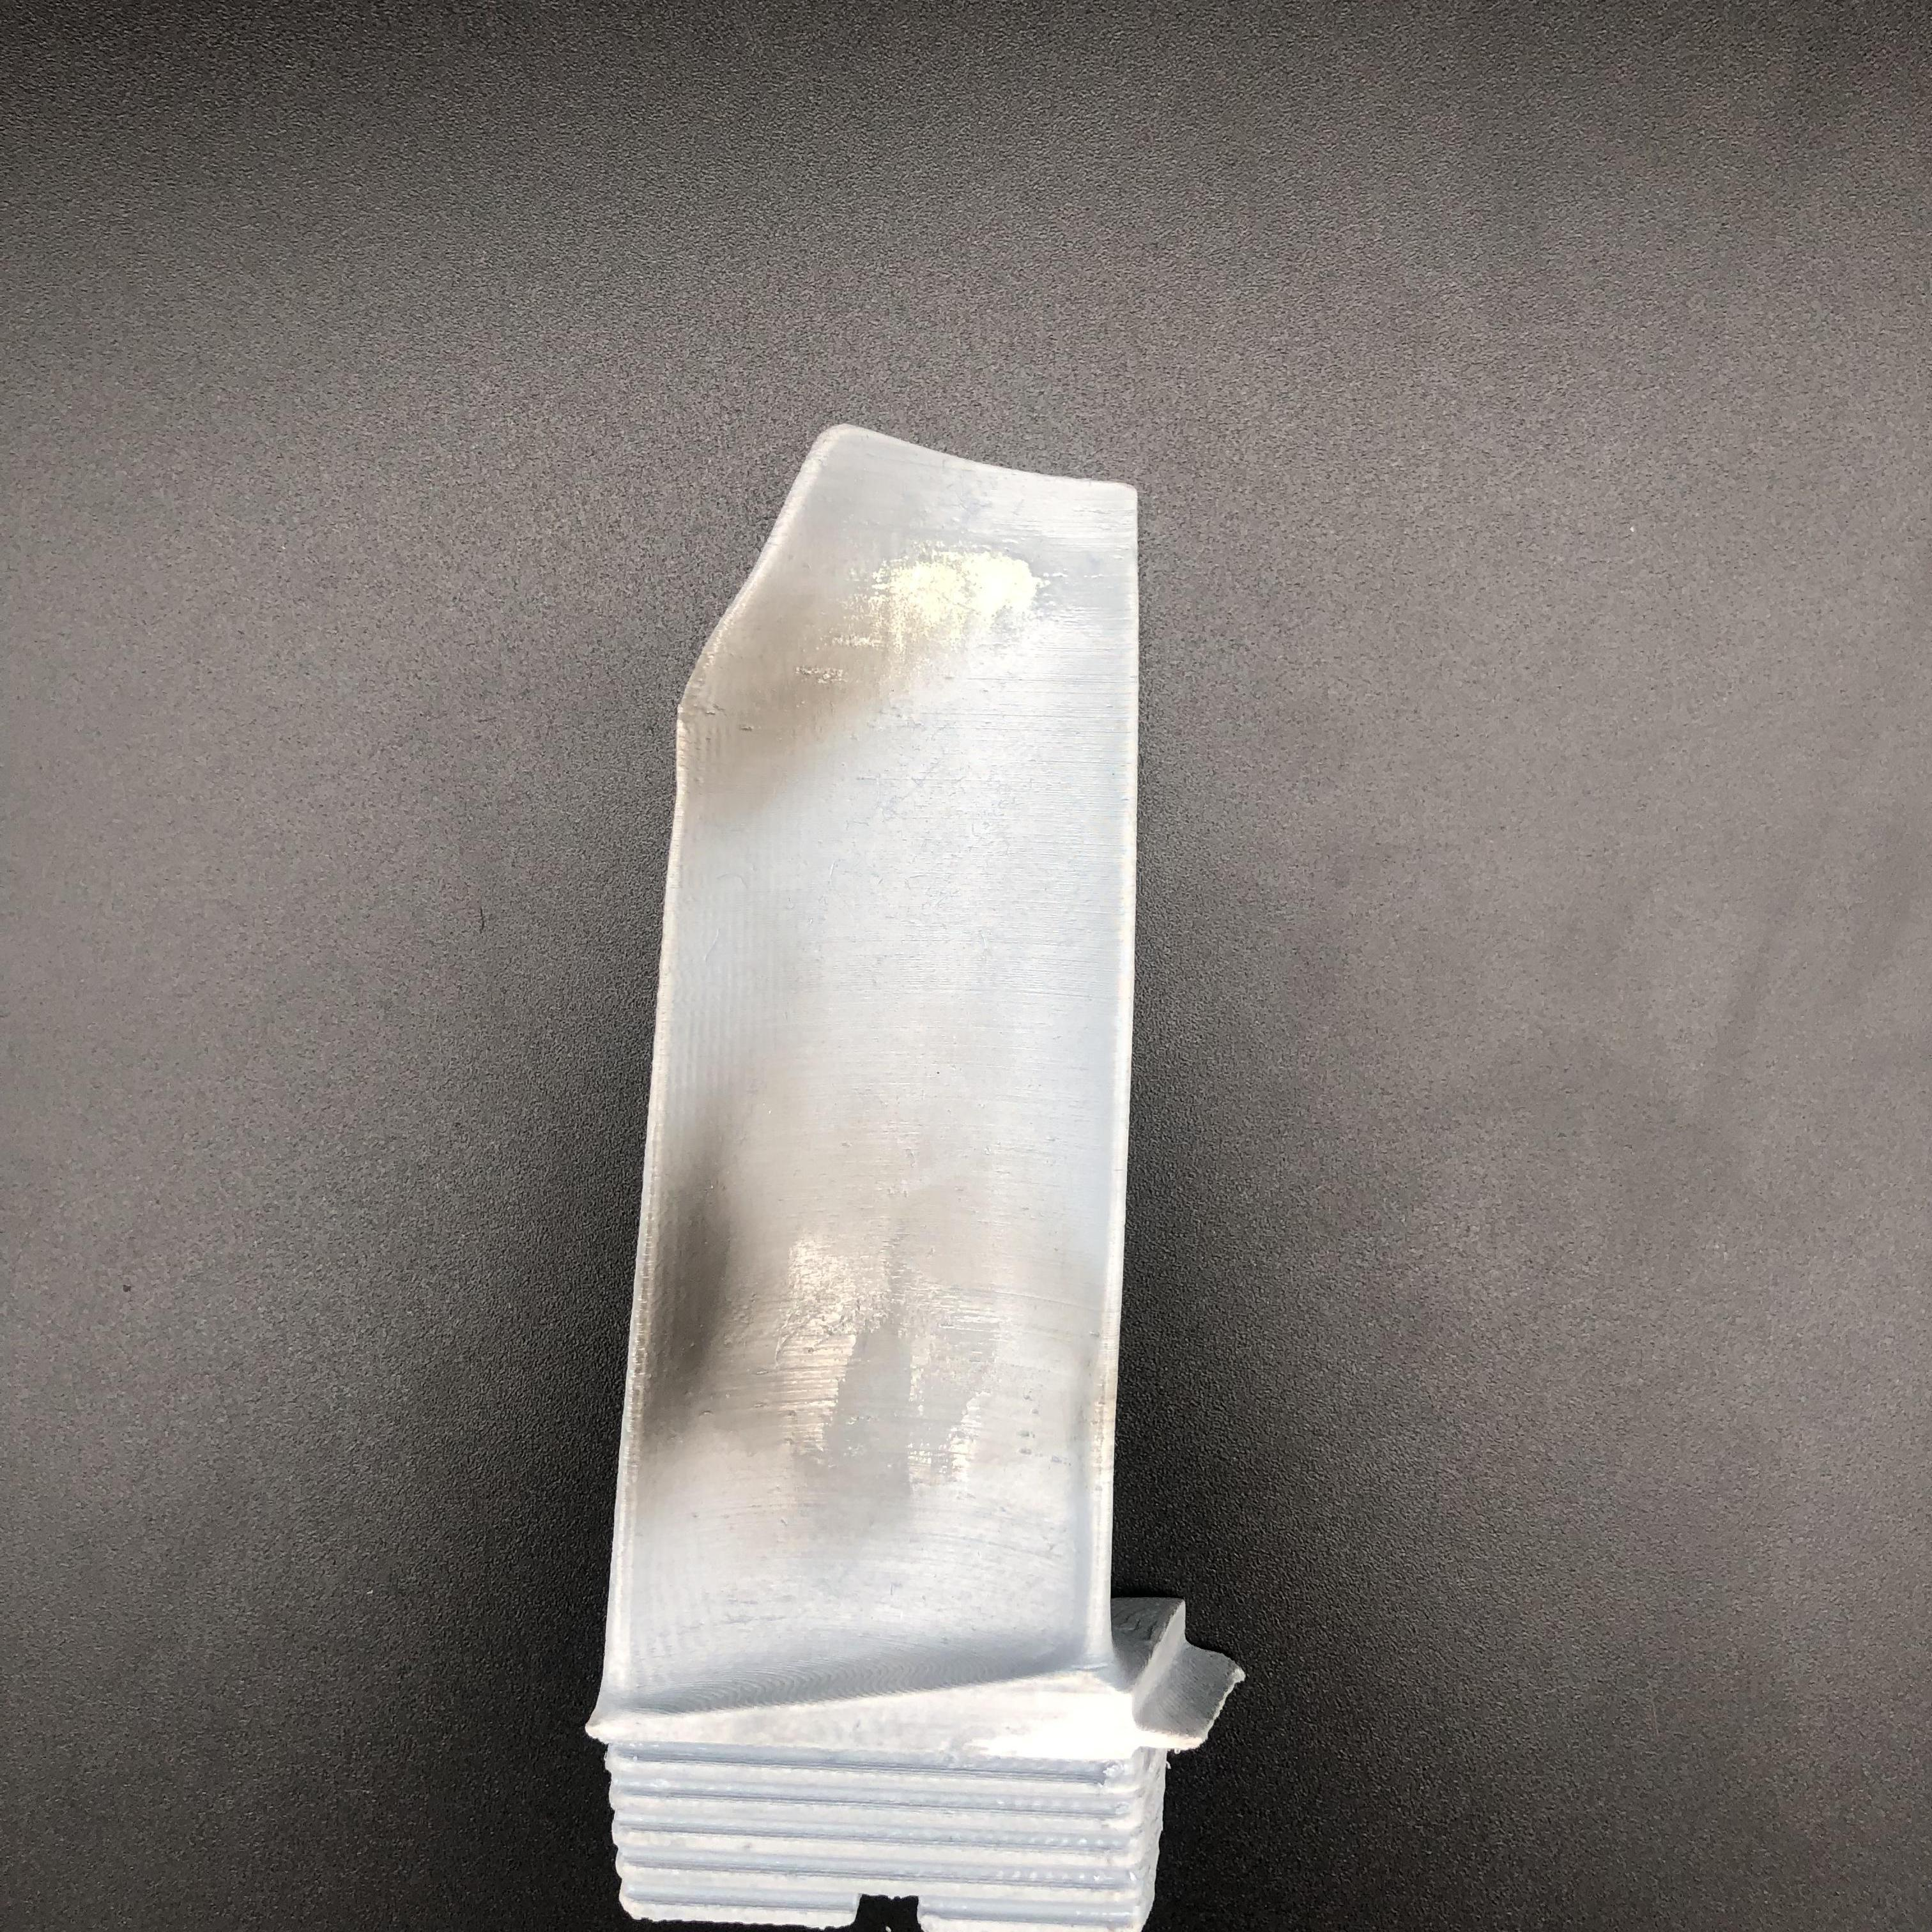ablation: (644, 1157, 1095, 1486), (692, 550, 1033, 775)
